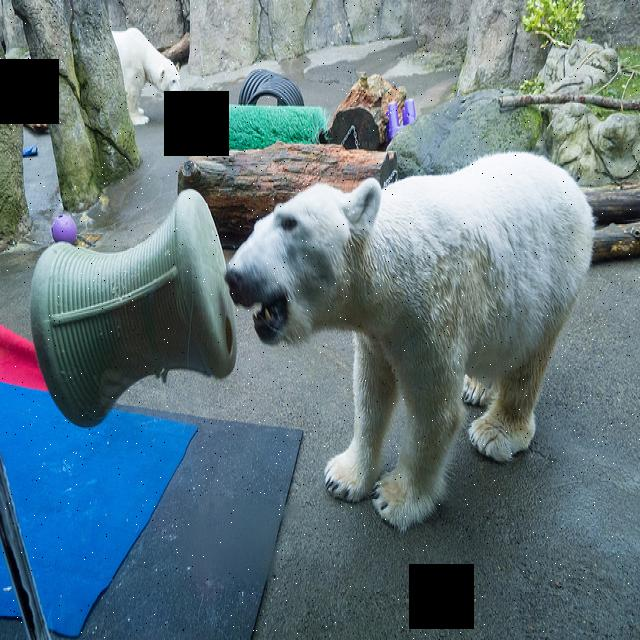Bear: (228, 149, 600, 526)
